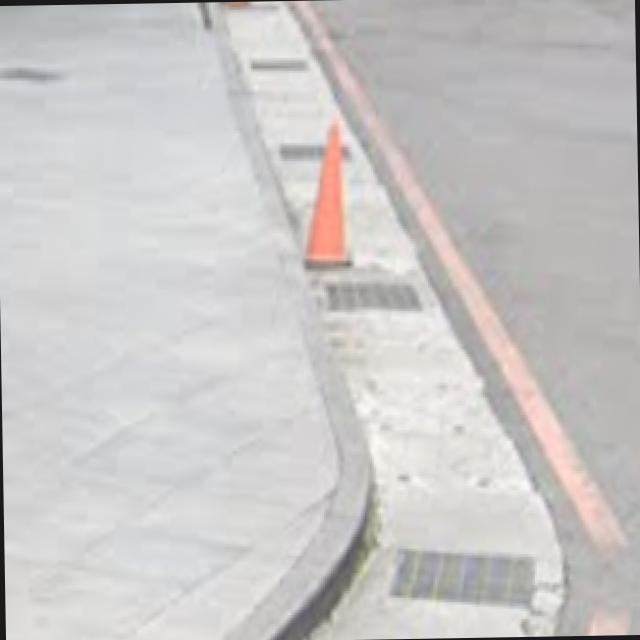cone: (292, 108, 360, 274)
